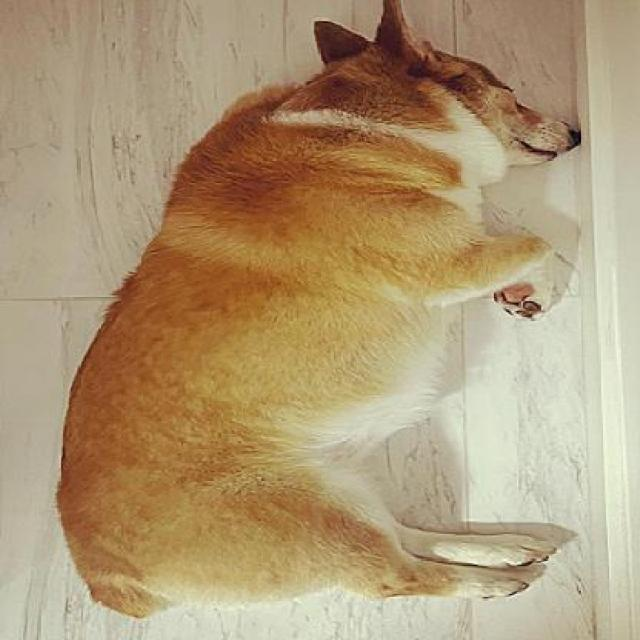Dog: (46, 0, 585, 623)
